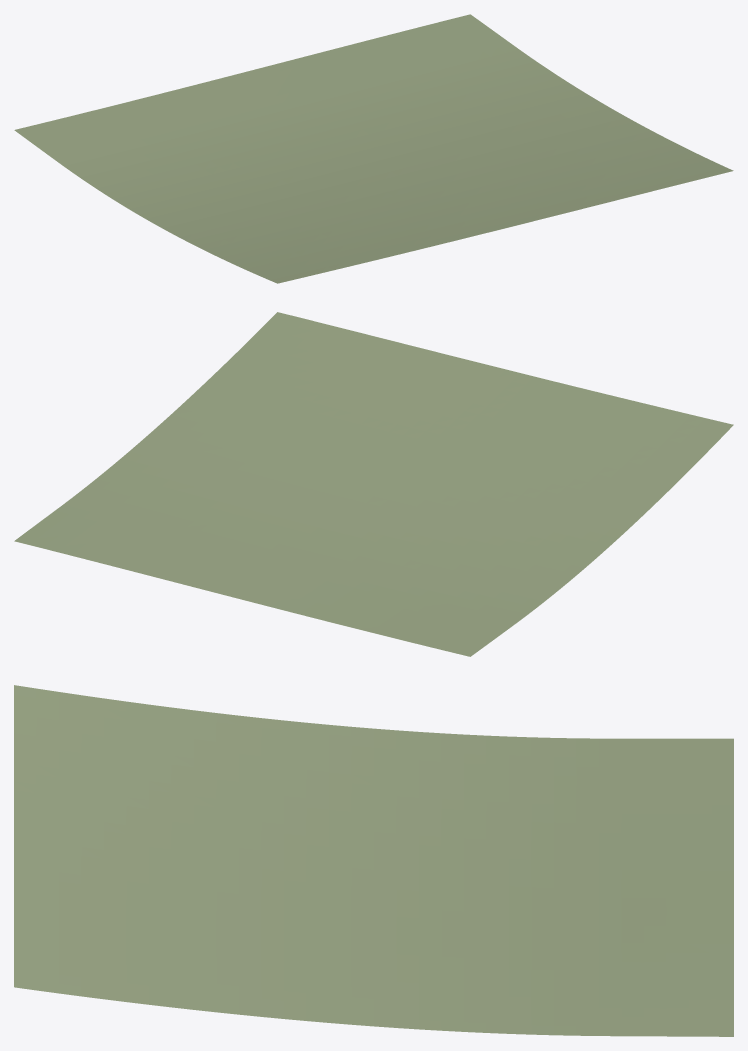
The model's file is expanse-30-3.glb.
3 renders of one model, top to bottom at view 1: azimuth 30°, elevation 25°; view 2: azimuth 150°, elevation 25°; view 3: azimuth 270°, elevation 25°, orthographic. The views are drawn at different scales.
Visible parts, largest first — view 1: expanse-30-3; view 2: expanse-30-3; view 3: expanse-30-3.
Part boxes in pixels (x1,y1,x2,y2): expanse-30-3: (14, 14, 733, 283); expanse-30-3: (14, 312, 733, 656); expanse-30-3: (14, 685, 733, 1036).
Bounding box in the file's own units: 256 × 21.83 × 256.
